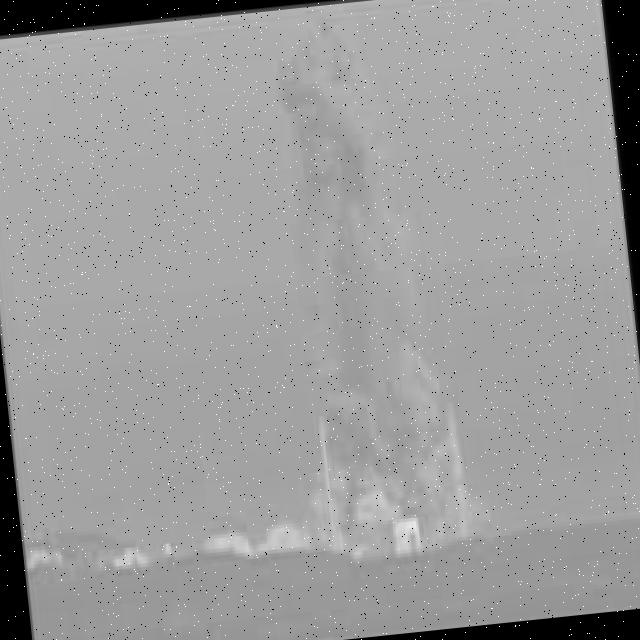explosion: (259, 29, 526, 562)
